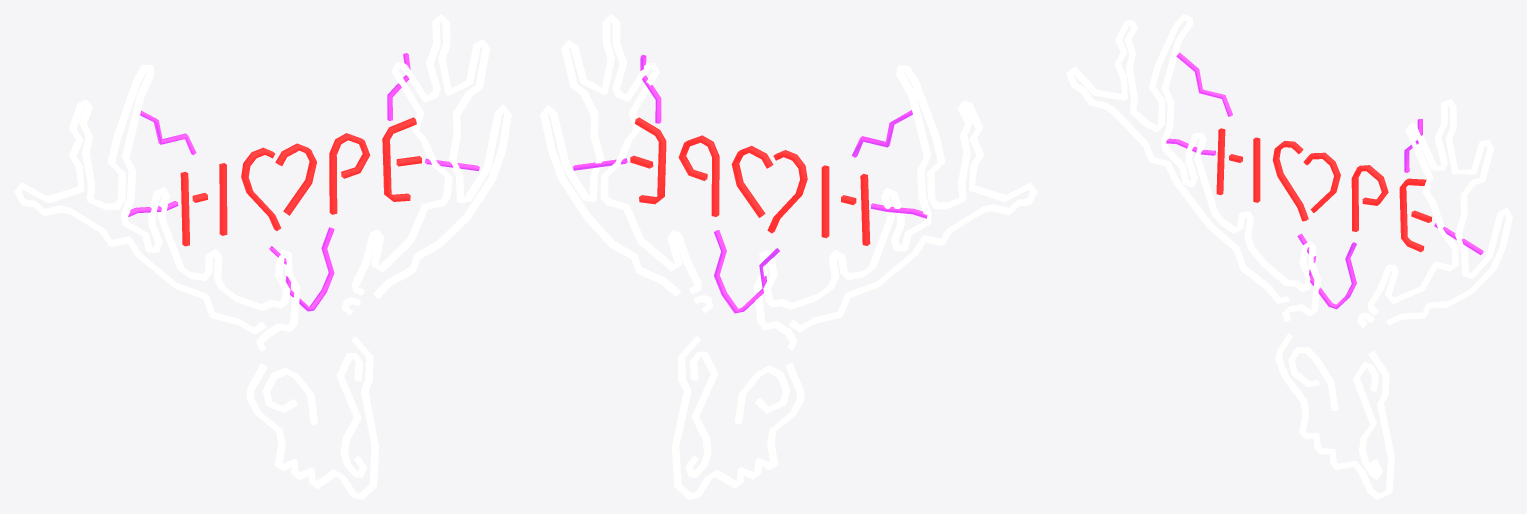
The model's file is hope_neon.glb.
The picture shows the model from 3 angles, left to right: view 1: azimuth 30°, elevation 25°; view 2: azimuth 150°, elevation 25°; view 3: azimuth 330°, elevation 25°; orthographic projection. The views are drawn at different scales.
Visible parts, largest first — view 1: neon_white, neon_red, neon_purple; view 2: neon_white, neon_red, neon_purple; view 3: neon_white, neon_red, neon_purple.
Part boxes in pixels (box(x1,y1,x2,y2)): neon_white: box(14, 14, 511, 499); neon_red: box(180, 117, 421, 246); neon_purple: box(128, 53, 479, 311); neon_white: box(540, 14, 1037, 499); neon_red: box(630, 117, 870, 245); neon_purple: box(573, 54, 927, 313); neon_white: box(1066, 14, 1512, 499); neon_red: box(1216, 128, 1431, 252); neon_purple: box(1166, 52, 1483, 309).
Size of the model in its own units: 0.8652 by 0.8114 by 0.018.
